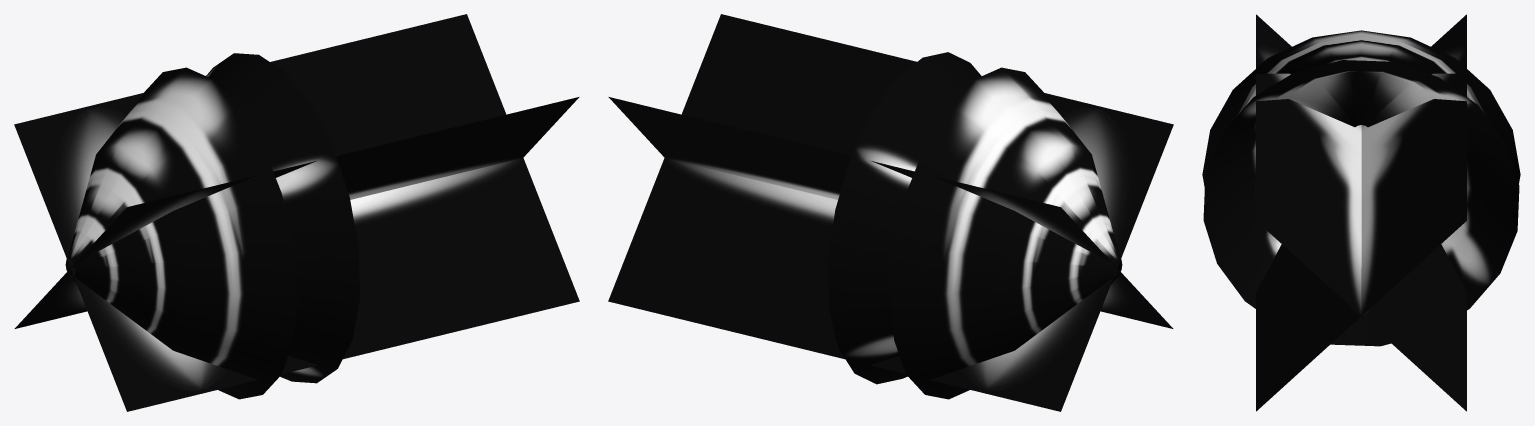
Rendered from MuzzleFlash.fbx.
3 renders of one model, left to right at view 1: azimuth 30°, elevation 25°; view 2: azimuth 150°, elevation 25°; view 3: azimuth 270°, elevation 25°, orthographic. The views are drawn at different scales.
Parts seen in each view (by area): view 1: MuzzleFlash; view 2: MuzzleFlash; view 3: MuzzleFlash.
Boxes of the visible parts, box(x1,y1,x2,y2) form: MuzzleFlash: box(14, 14, 579, 411); MuzzleFlash: box(608, 14, 1173, 411); MuzzleFlash: box(1202, 14, 1520, 411).
Bounding box in the file's own units: 90.03 × 58.62 × 58.62.
Materials: 2 (2 with a texture image).
